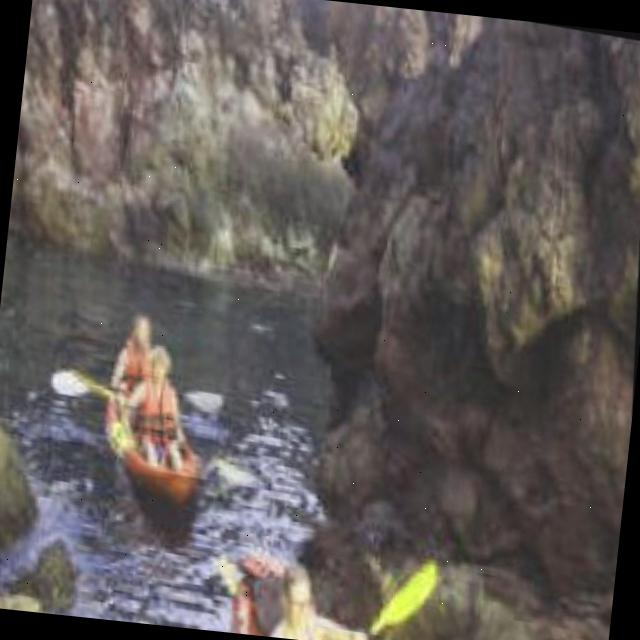kayak: (66, 366, 198, 505), (220, 547, 288, 635)
